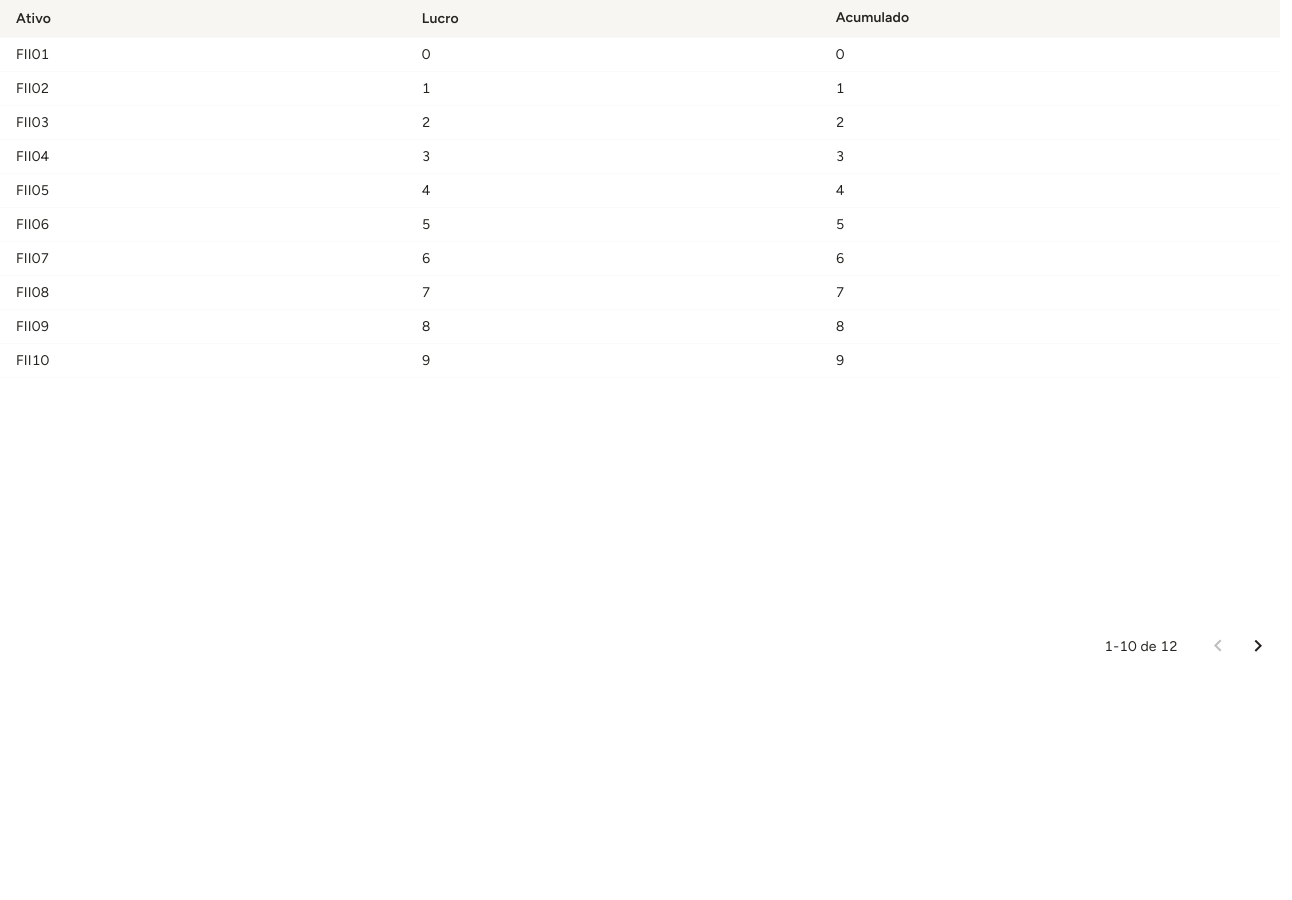
Test: AppSimpleTable — ordenação › pagina sem desmontar a altura reservada da tabela
The image size is (1292, 900).
Check: the text "1-10 de 12" is shown, box [1104,636,1178,656]
Click the button named "next page": x=1258, y=646 [1238,626,1278,666]
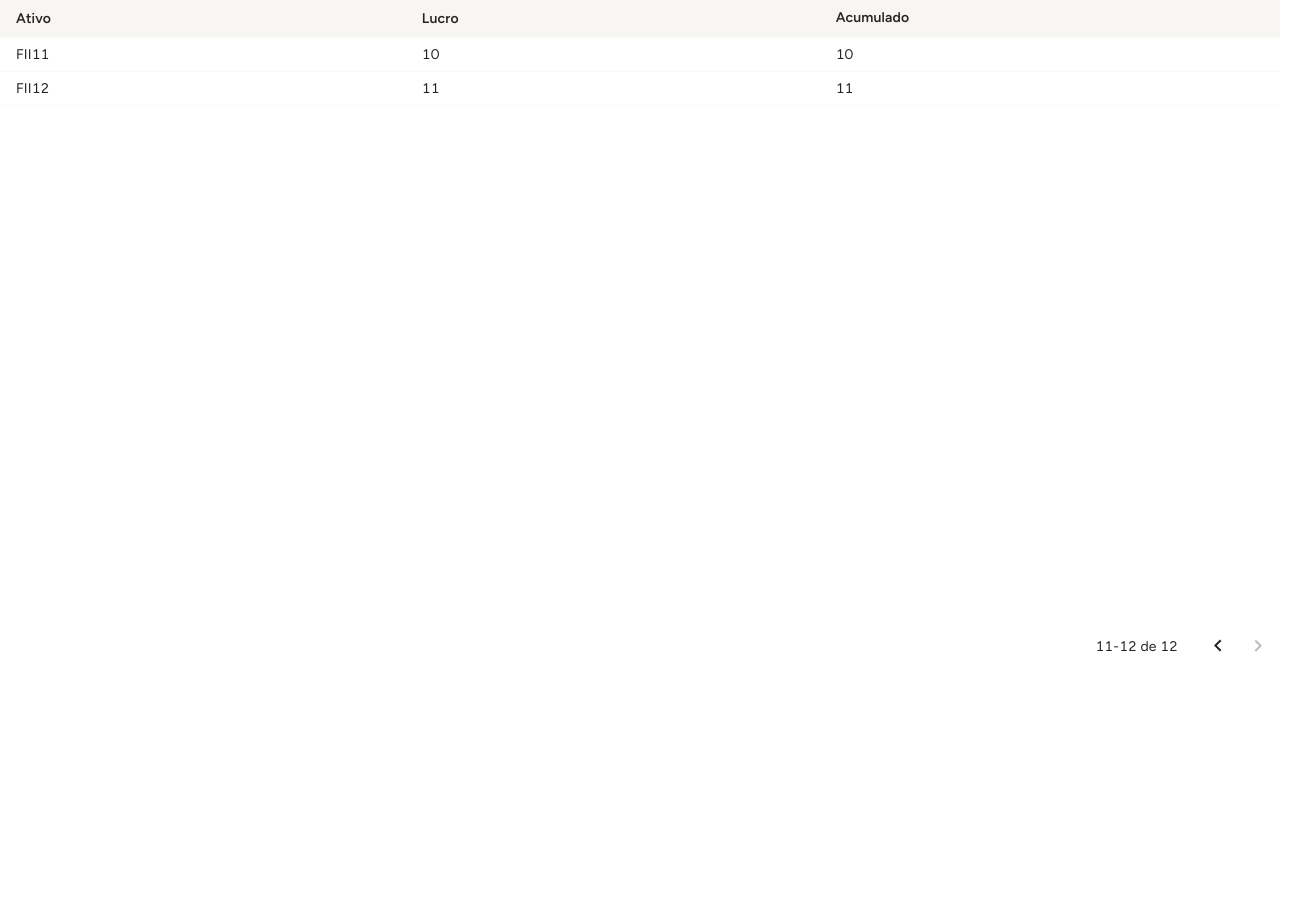
Check: the text "11-12 de 12" is shown, box [1095,636,1178,656]
